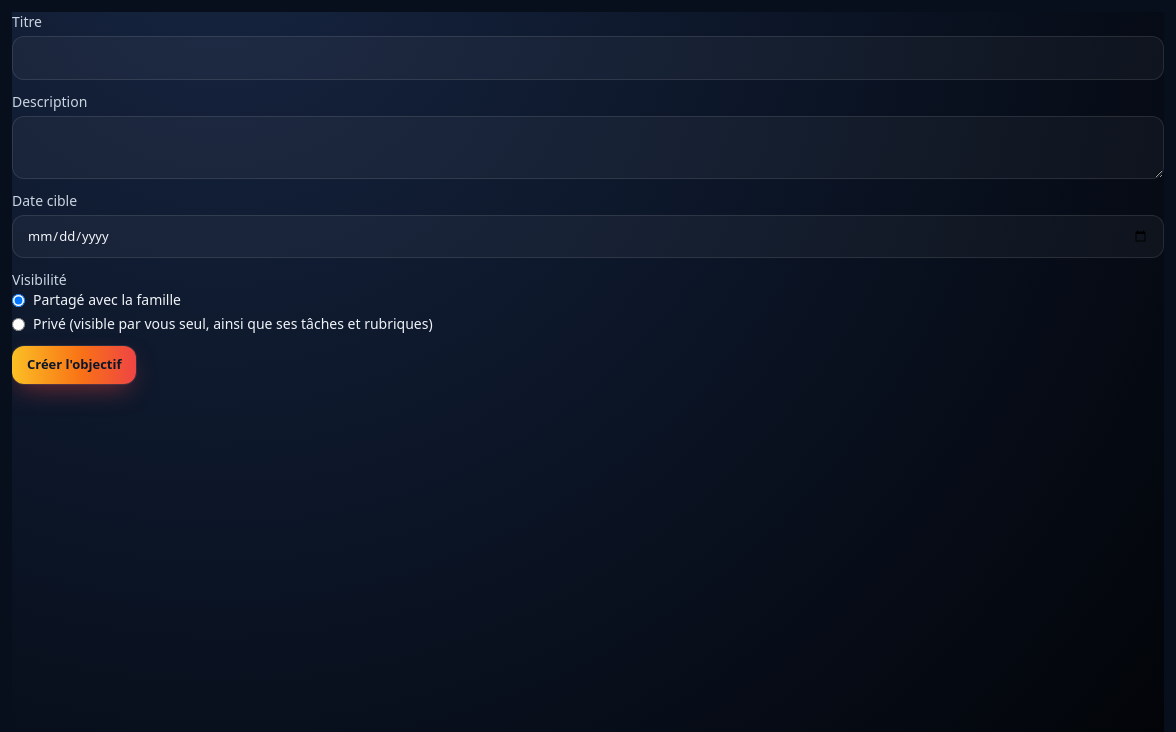
Test case: ObjectiveForm › refuse la soumission sans titre
This screenshot has width=1176, height=732.
Click the button "Créer l'objectif" at (74, 365), box [12,346,136,384]
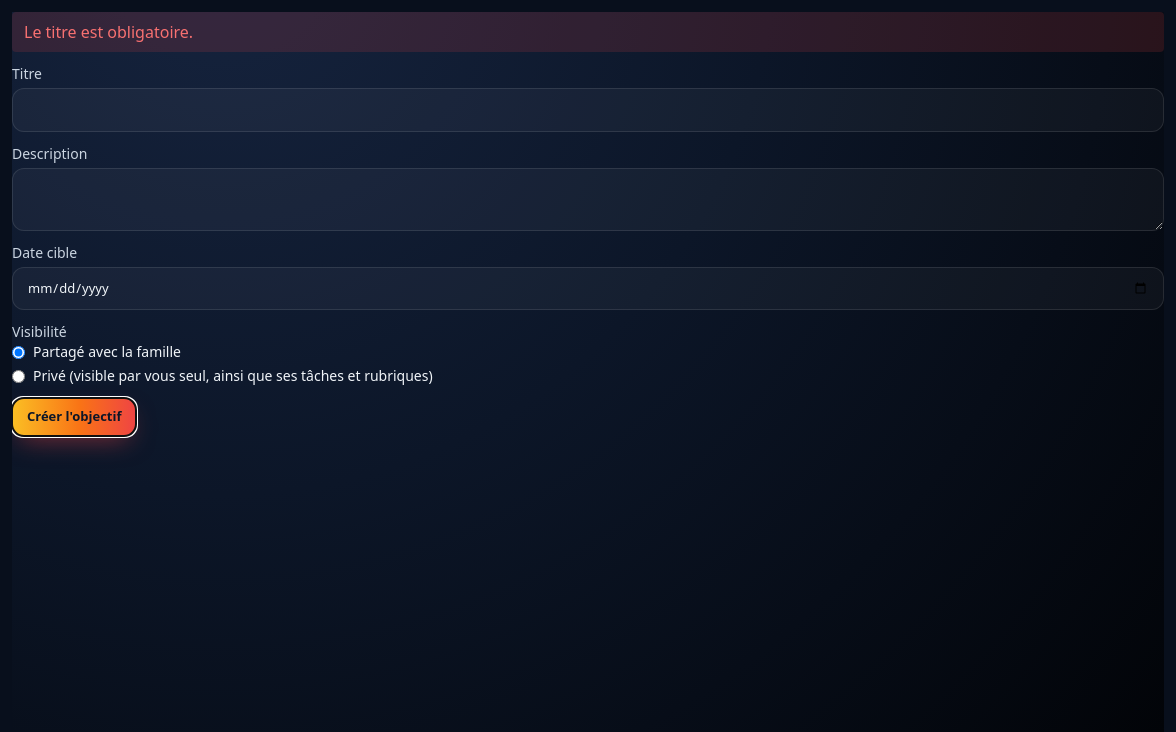
Expected: the message shows "titre", [24,21,193,43]
